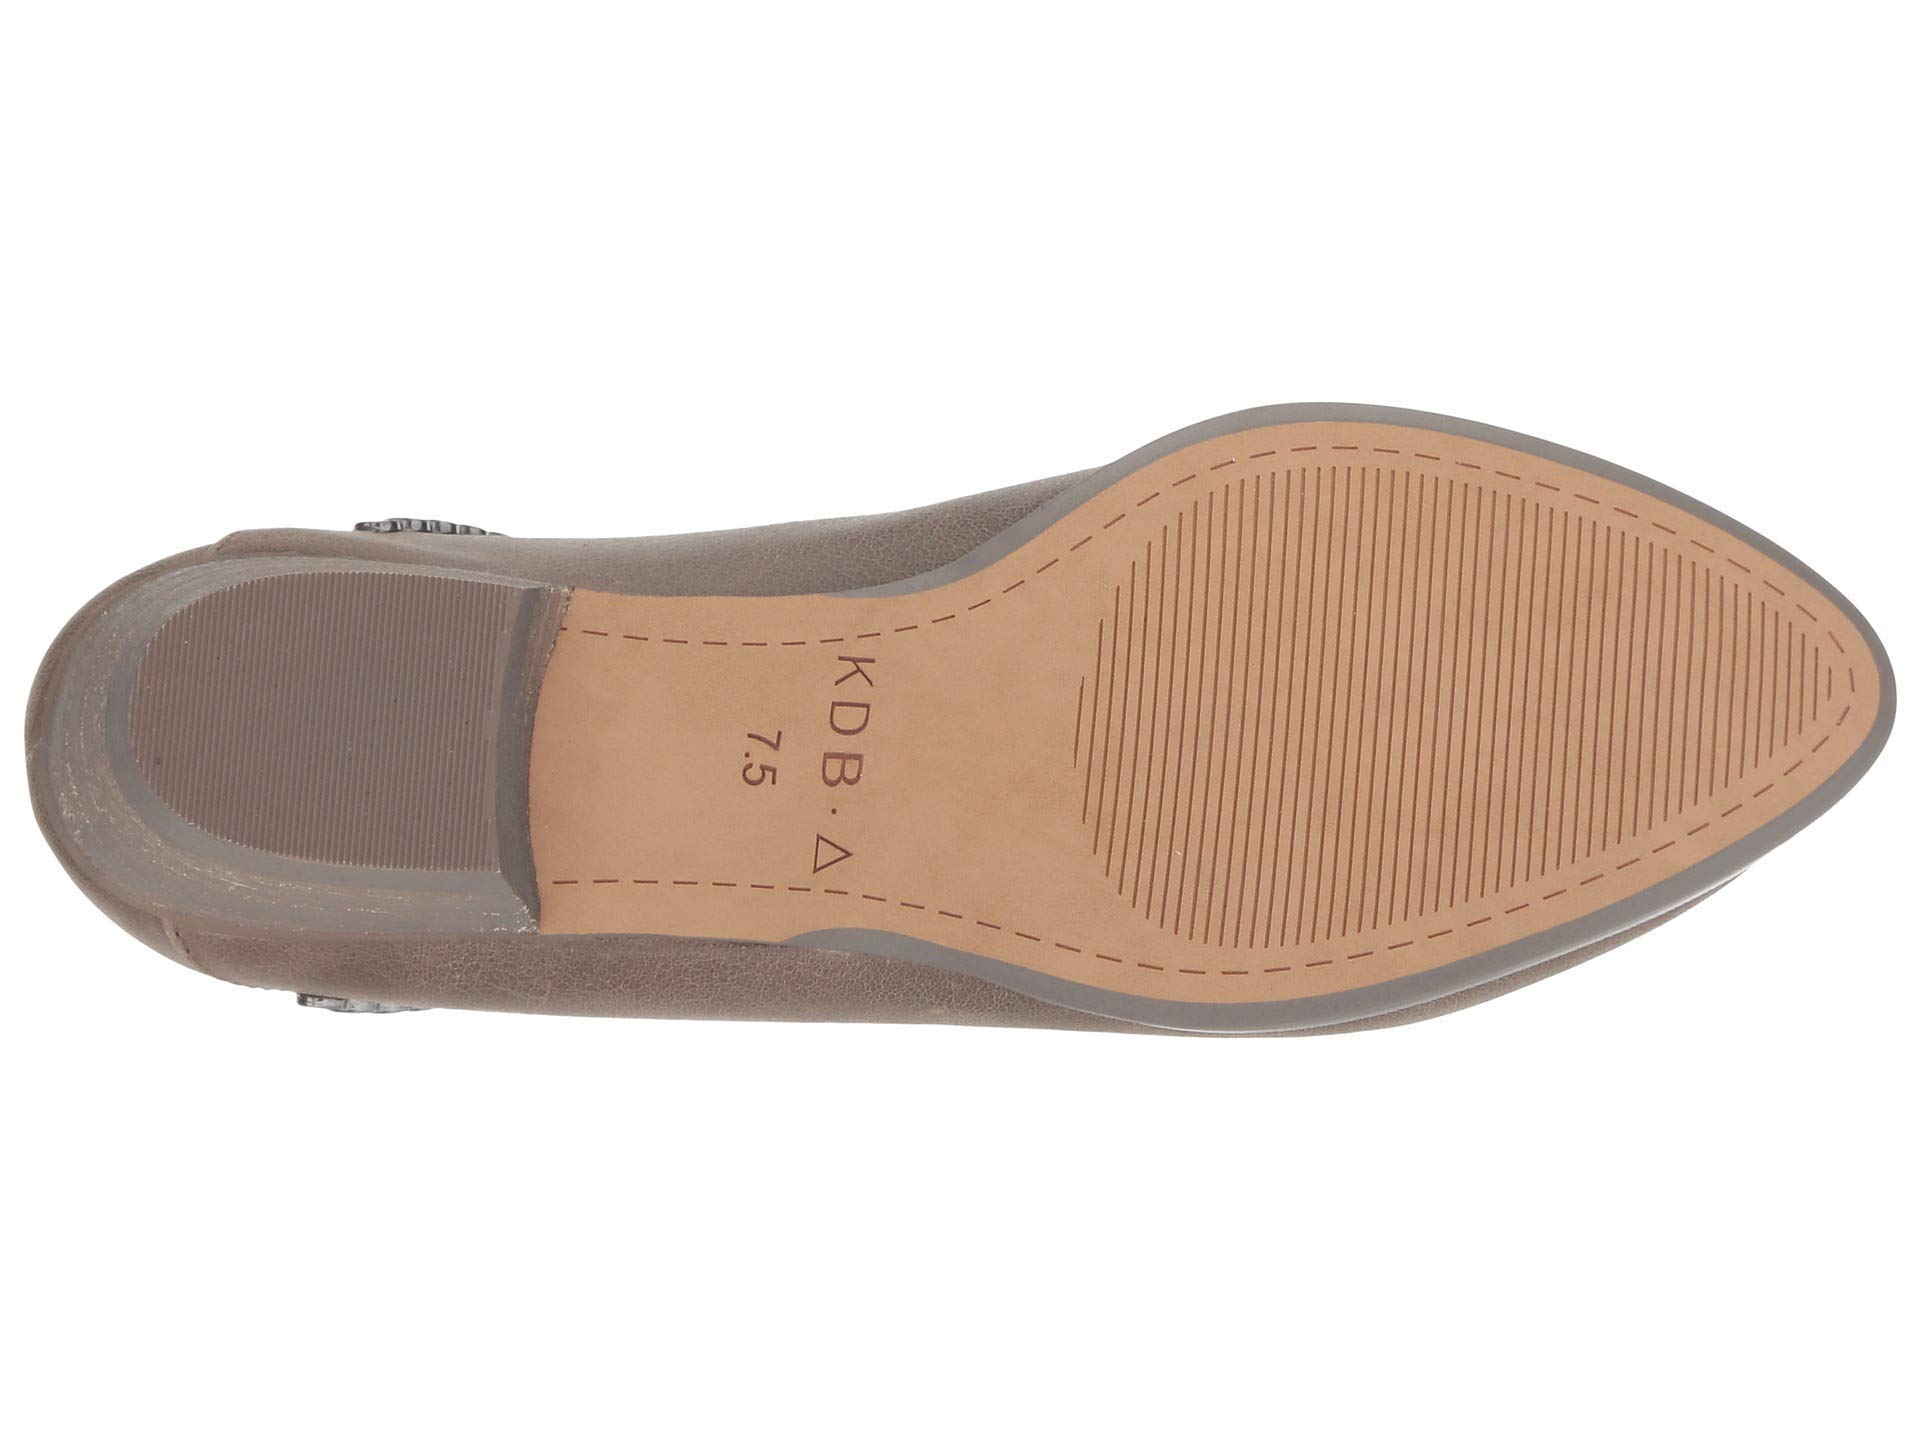line: (133, 573, 508, 880)
